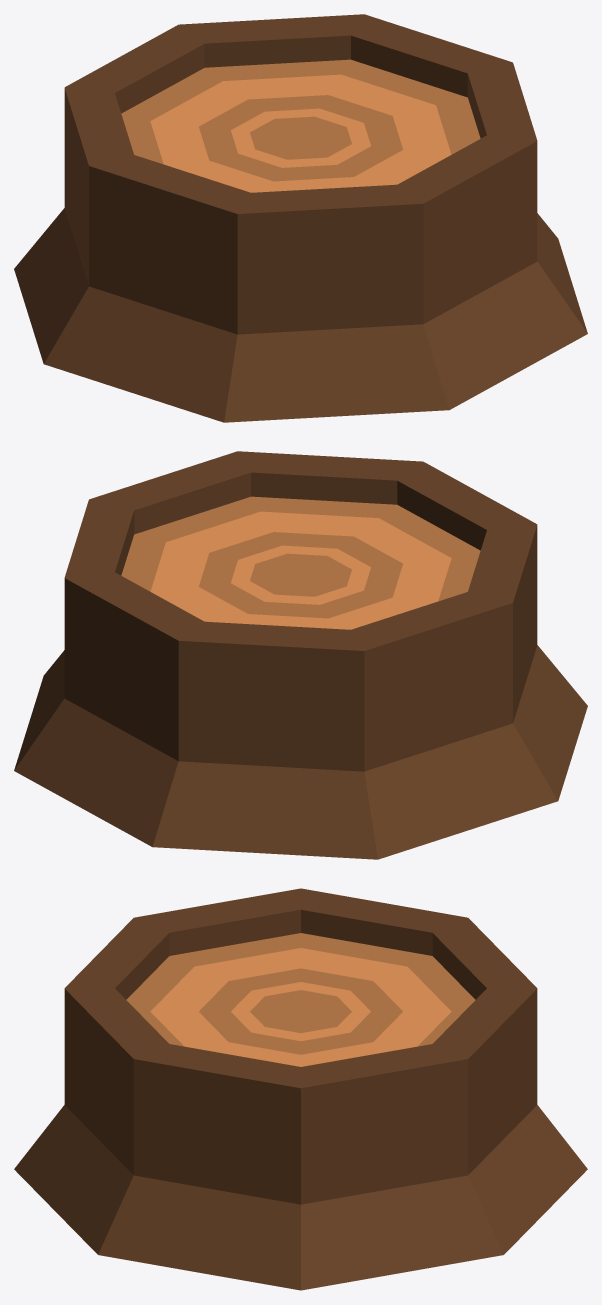
The model's file is Log3.glb.
The picture shows the model from 3 angles, top to bottom: view 1: azimuth 30°, elevation 25°; view 2: azimuth 150°, elevation 25°; view 3: azimuth 270°, elevation 25°; orthographic projection. The views are drawn at different scales.
Parts seen in each view (by area): view 1: Log 3; view 2: Log 3; view 3: Log 3.
Boxes of the visible parts, x1=… form: Log 3: x1=14, y1=14, x2=587, y2=422; Log 3: x1=14, y1=451, x2=587, y2=859; Log 3: x1=14, y1=888, x2=587, y2=1290.
Bounding box in the file's own units: 14.26 × 4.96 × 14.26.
